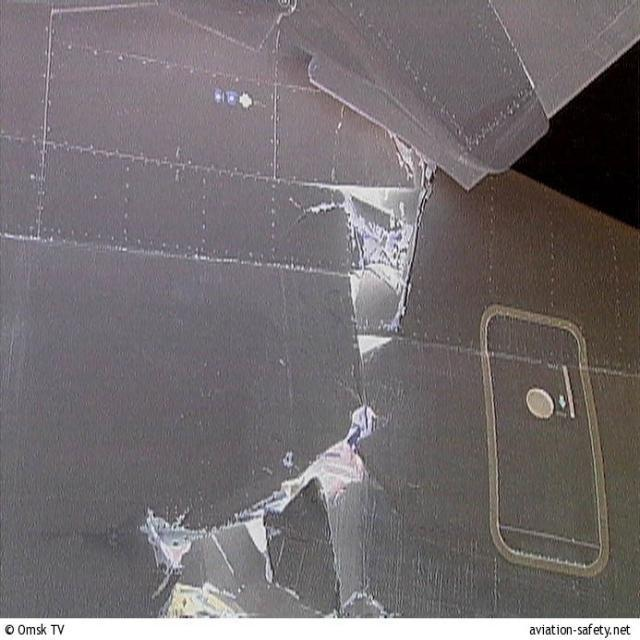crack: (134, 406, 385, 606)
